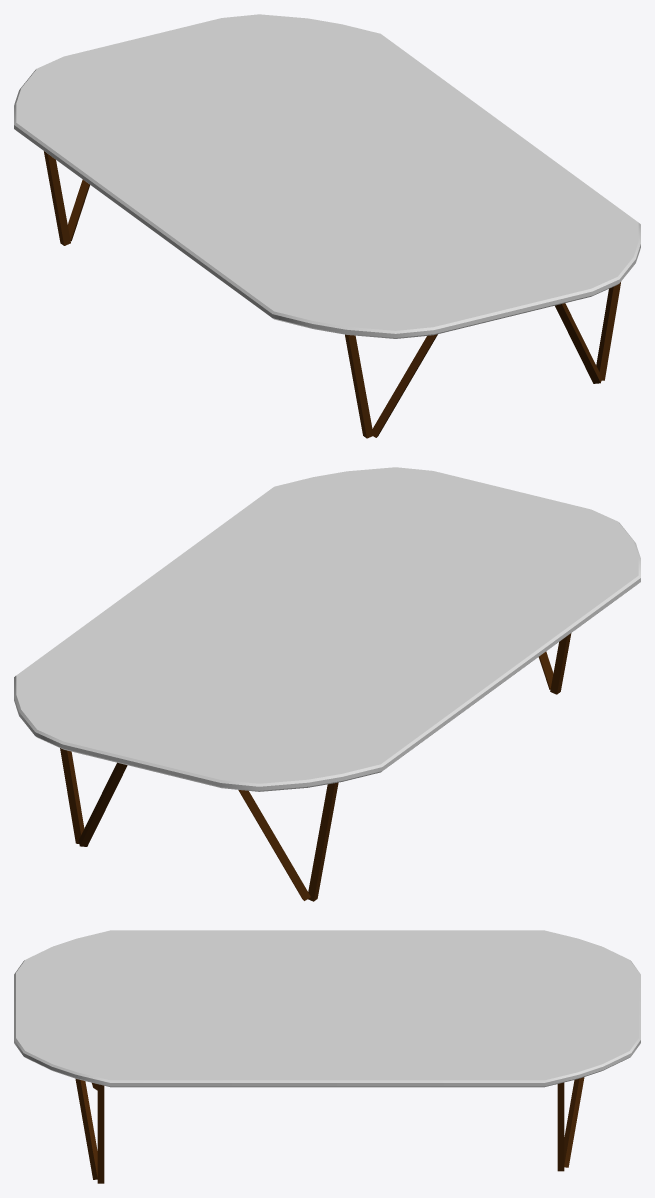
File: Table.fbx
3 renders of one model, top to bottom at view 1: azimuth 30°, elevation 25°; view 2: azimuth 150°, elevation 25°; view 3: azimuth 270°, elevation 25°, orthographic. The views are drawn at different scales.
Visible parts, largest first — view 1: polySurface183, polySurface194; view 2: polySurface183, polySurface194; view 3: polySurface183, polySurface194.
Part boxes in pixels (box(x1,y1,x2,y2)): polySurface183: box(14, 14, 640, 338); polySurface194: box(44, 151, 620, 438); polySurface183: box(14, 467, 640, 791); polySurface194: box(60, 633, 571, 901); polySurface183: box(14, 930, 640, 1087); polySurface194: box(75, 1077, 584, 1183).
Size of the model in its own units: 36.96 by 13.74 by 64.65.
